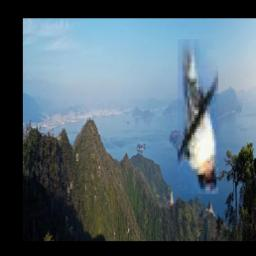Swallow: (179, 39, 219, 194)
